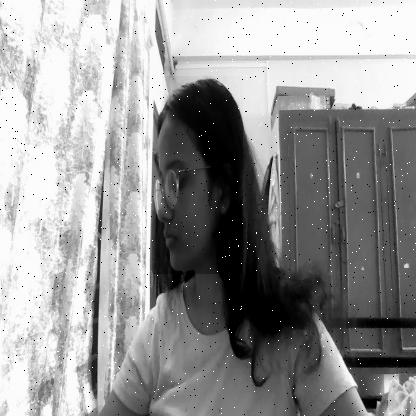Distracted: (152, 76, 243, 274)
